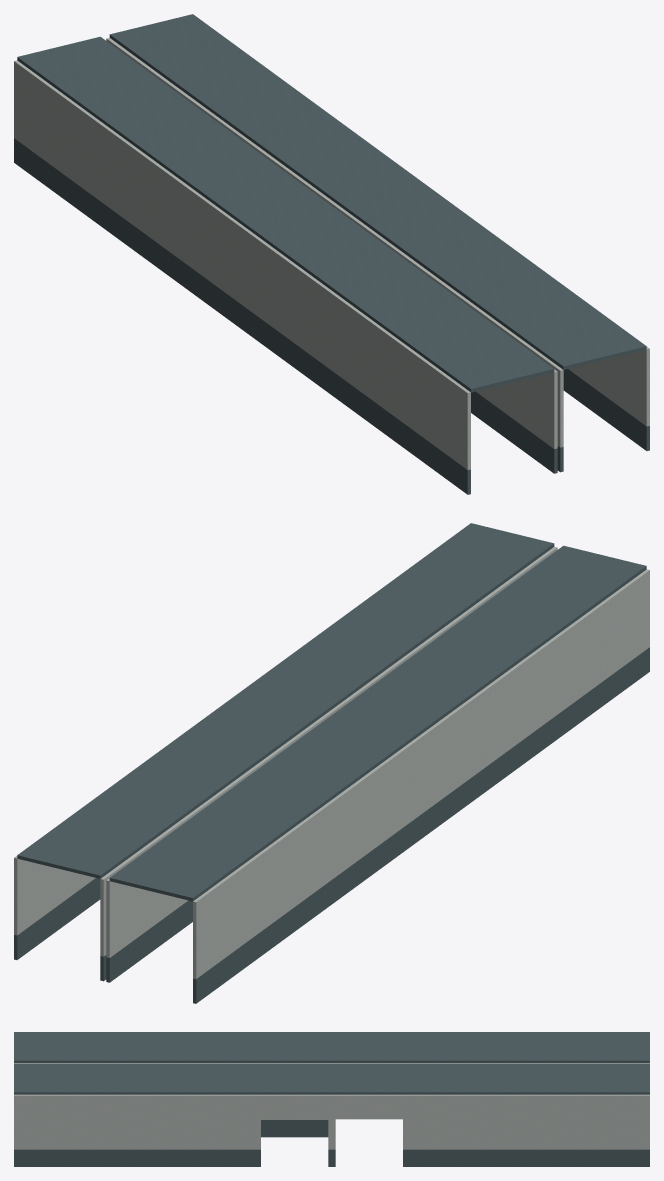
The model's file is AST-MED-G3-006.glb.
3 views of the same model, one above another, from view 1: azimuth 30°, elevation 25°; view 2: azimuth 150°, elevation 25°; view 3: azimuth 270°, elevation 25° (orthographic). The views are drawn at different scales.
Visible parts, largest first — view 1: overhead_staff_bluegrey_paint_-3_-13, screen_wall_staff_white_paint_-3_-13, overhead_staff_bluegrey_paint_-3_-12, screen_wall_staff_white_paint_-3_-12, screen_wall_staff_bluegrey_paint_-3_-13, screen_wall_staff_bluegrey_paint_-3_-12; view 2: overhead_staff_bluegrey_paint_-3_-13, screen_wall_staff_white_paint_-3_-13, overhead_staff_bluegrey_paint_-3_-12, screen_wall_staff_bluegrey_paint_-3_-13, screen_wall_staff_white_paint_-3_-12, screen_wall_staff_bluegrey_paint_-3_-12; view 3: overhead_staff_bluegrey_paint_-3_-13, screen_wall_staff_white_paint_-3_-13, overhead_staff_bluegrey_paint_-3_-12, screen_wall_staff_white_paint_-3_-12, screen_wall_staff_bluegrey_paint_-3_-13, screen_wall_staff_bluegrey_paint_-3_-12.
Boxes of the visible parts, box(x1,y1,x2,y2) form: overhead_staff_bluegrey_paint_-3_-13: box(17, 14, 512, 294); screen_wall_staff_white_paint_-3_-13: box(14, 38, 429, 371); overhead_staff_bluegrey_paint_-3_-12: box(337, 248, 646, 392); screen_wall_staff_white_paint_-3_-12: box(334, 272, 649, 469); screen_wall_staff_bluegrey_paint_-3_-13: box(14, 138, 334, 396); screen_wall_staff_bluegrey_paint_-3_-12: box(334, 369, 649, 494); overhead_staff_bluegrey_paint_-3_-13: box(17, 621, 513, 901); screen_wall_staff_white_paint_-3_-13: box(14, 644, 516, 978); overhead_staff_bluegrey_paint_-3_-12: box(338, 523, 646, 666); screen_wall_staff_bluegrey_paint_-3_-13: box(14, 745, 516, 1003); screen_wall_staff_white_paint_-3_-12: box(421, 547, 649, 744); screen_wall_staff_bluegrey_paint_-3_-12: box(516, 647, 649, 768); overhead_staff_bluegrey_paint_-3_-13: box(201, 1032, 649, 1094); screen_wall_staff_white_paint_-3_-13: box(201, 1063, 649, 1149); overhead_staff_bluegrey_paint_-3_-12: box(14, 1032, 200, 1094); screen_wall_staff_white_paint_-3_-12: box(14, 1063, 200, 1149); screen_wall_staff_bluegrey_paint_-3_-13: box(201, 1120, 649, 1166); screen_wall_staff_bluegrey_paint_-3_-12: box(14, 1149, 200, 1166).
Size of the model in its own units: 7.88 by 4.34 by 34.
Materials: 4 (4 with a texture image).
